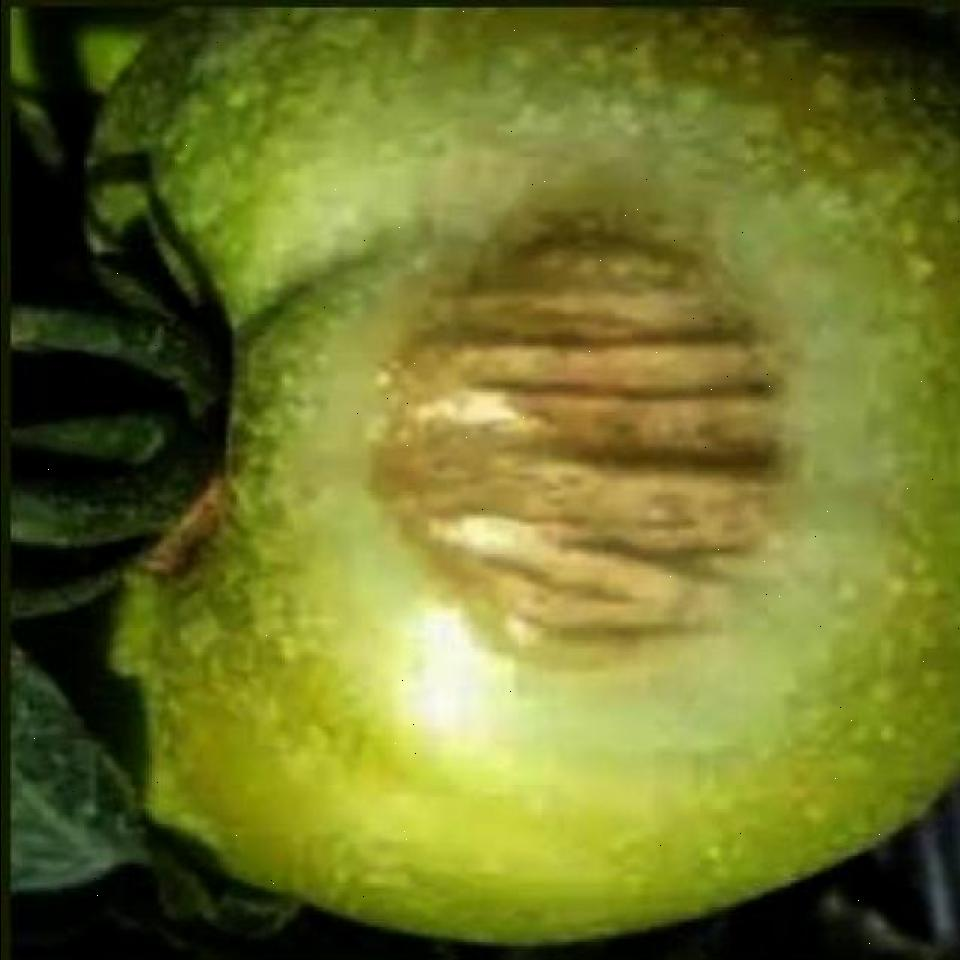Sunscald: (309, 174, 773, 701)
